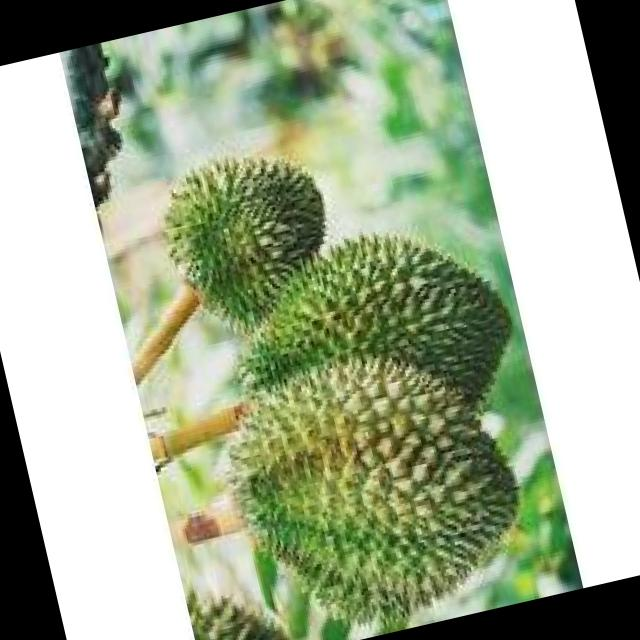fruit: (186, 293, 558, 640), (130, 122, 356, 348)
